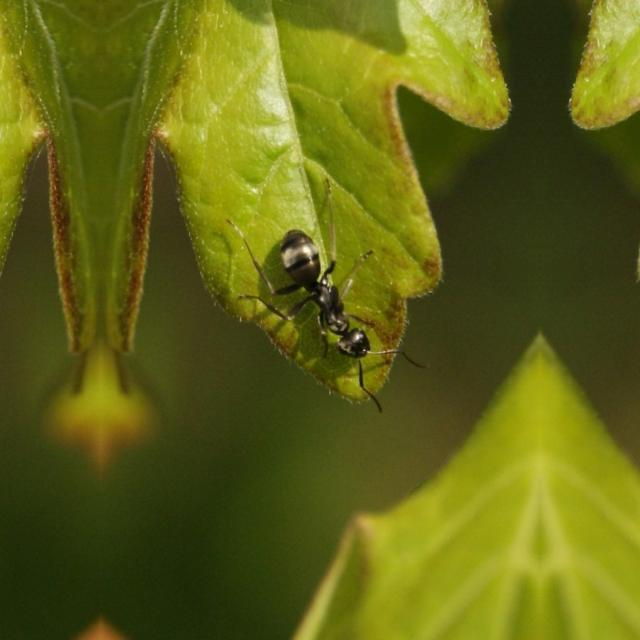Formica: (247, 210, 413, 380)
